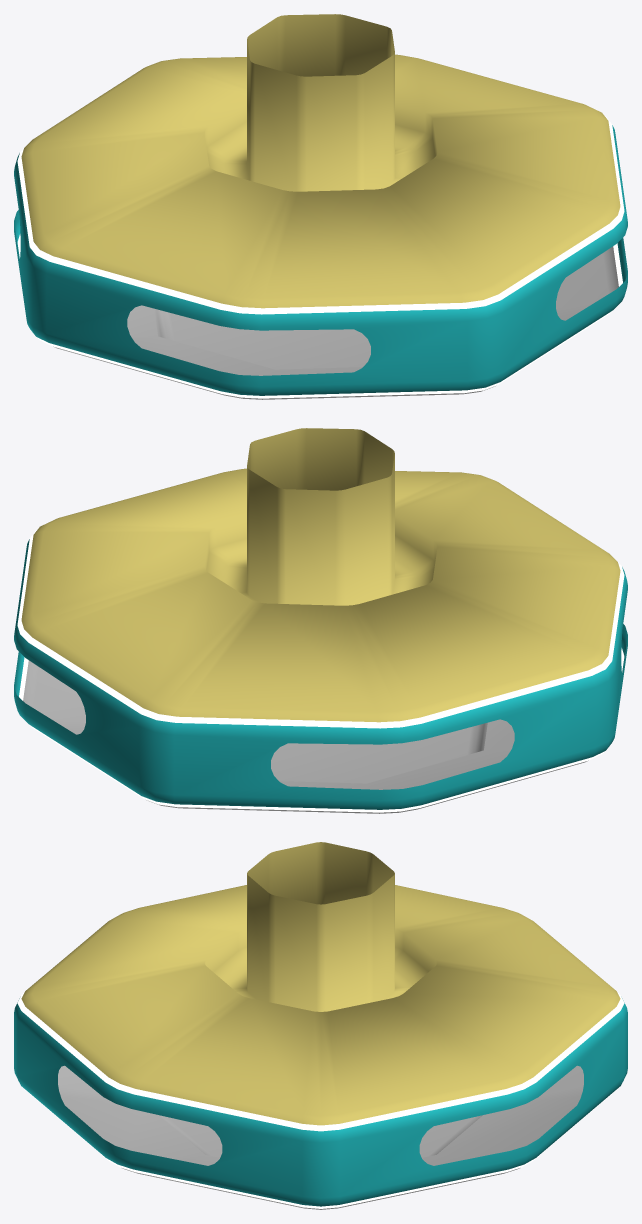
Rendered from a-vr-enviro-1.glb.
The picture shows the model from 3 angles, top to bottom: view 1: azimuth 30°, elevation 25°; view 2: azimuth 150°, elevation 25°; view 3: azimuth 270°, elevation 25°; orthographic projection. The views are drawn at different scales.
Parts seen in each view (by area): view 1: SM_Environment_01; view 2: SM_Environment_01; view 3: SM_Environment_01.
Part boxes in pixels (x1,y1,x2,y2): SM_Environment_01: (14, 14, 627, 399); SM_Environment_01: (14, 428, 627, 813); SM_Environment_01: (14, 842, 627, 1209).
Size of the model in its own units: 52.61 by 22.92 by 52.61.
